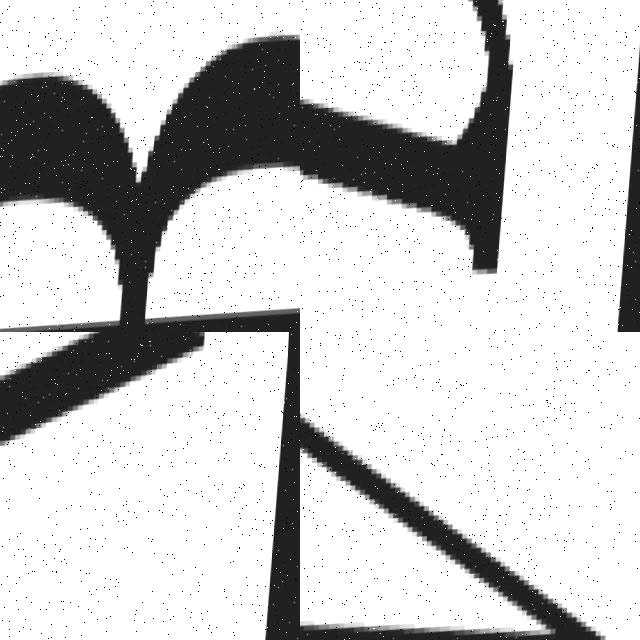B: (0, 44, 300, 332)
D: (300, 0, 540, 322)
V: (300, 416, 608, 640), (0, 332, 222, 640)
